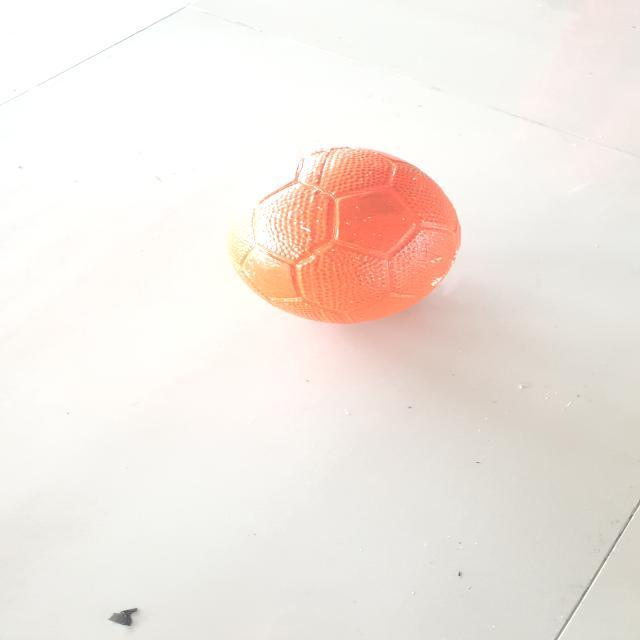bola: (217, 144, 466, 333)
